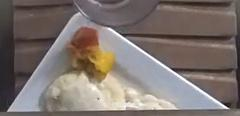biscuit: (46, 72, 144, 111)
